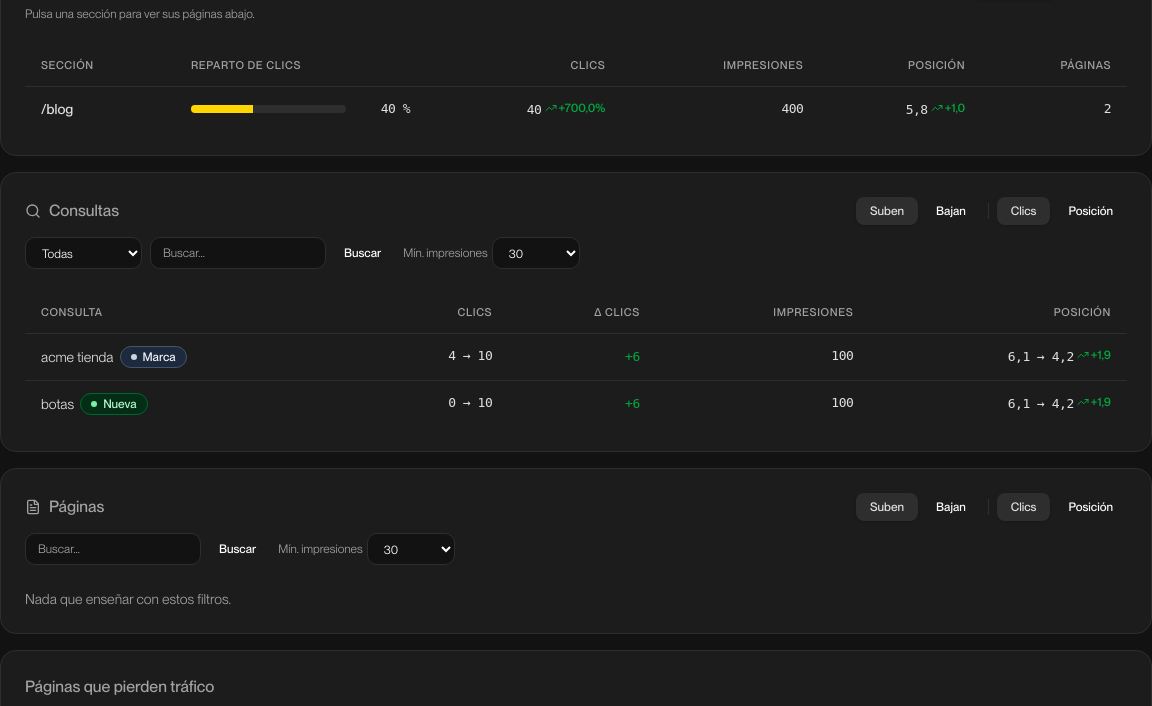
SeoControlTab history and URL groups › opens a query's position history with months and the last days
(page scrolled)
Click the button "acme tienda". click: (77, 357)
box: [41,347,114,367]
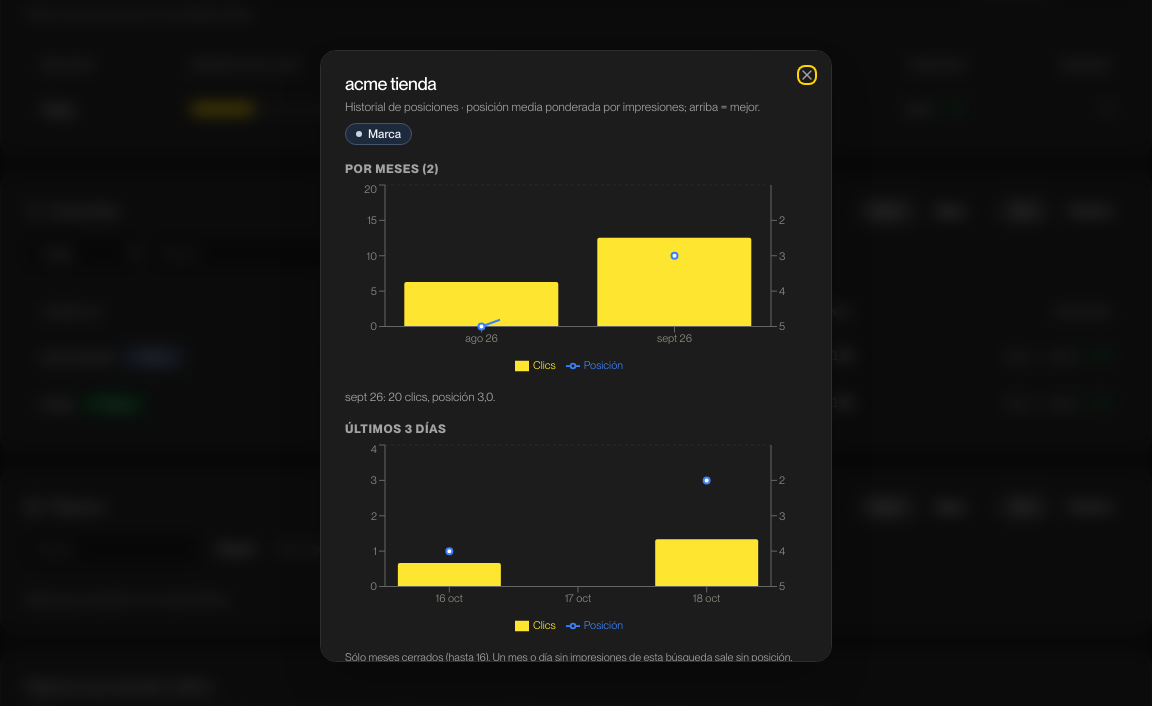
Expected: the text "Por meses (2)" is shown, [345,162,439,176]
Expected: the text "Últimos 3 días" is shown, [345,422,447,436]
Expected: the text "sept 26: 20 clics, posición 3,0." is shown, [345,390,495,404]
Click the button named "Cerrar". click: (807, 75)
box: [799,67,815,83]
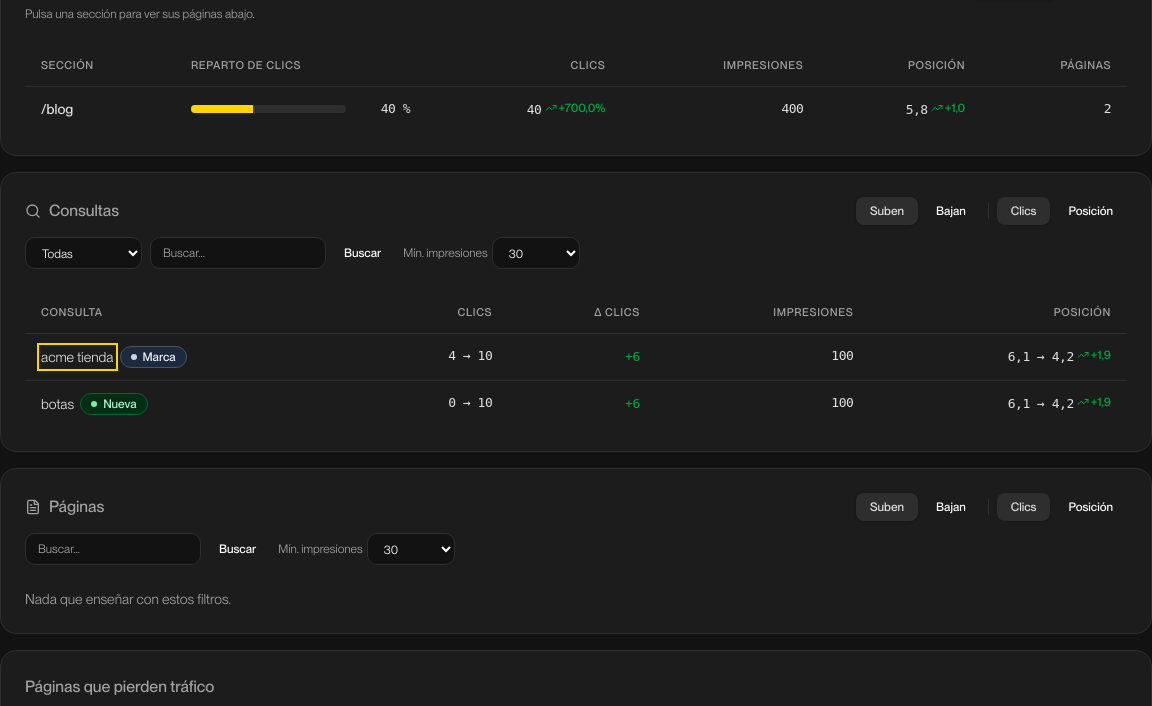
Expected: the dialog is gone
